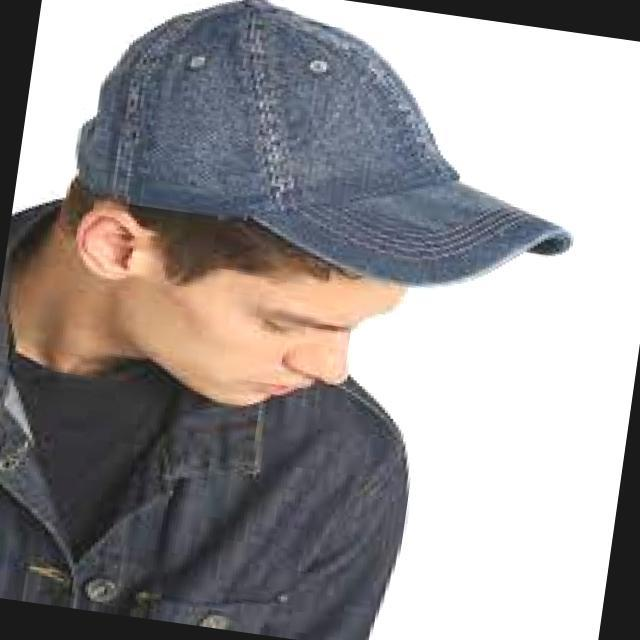cap: (25, 0, 638, 358)
